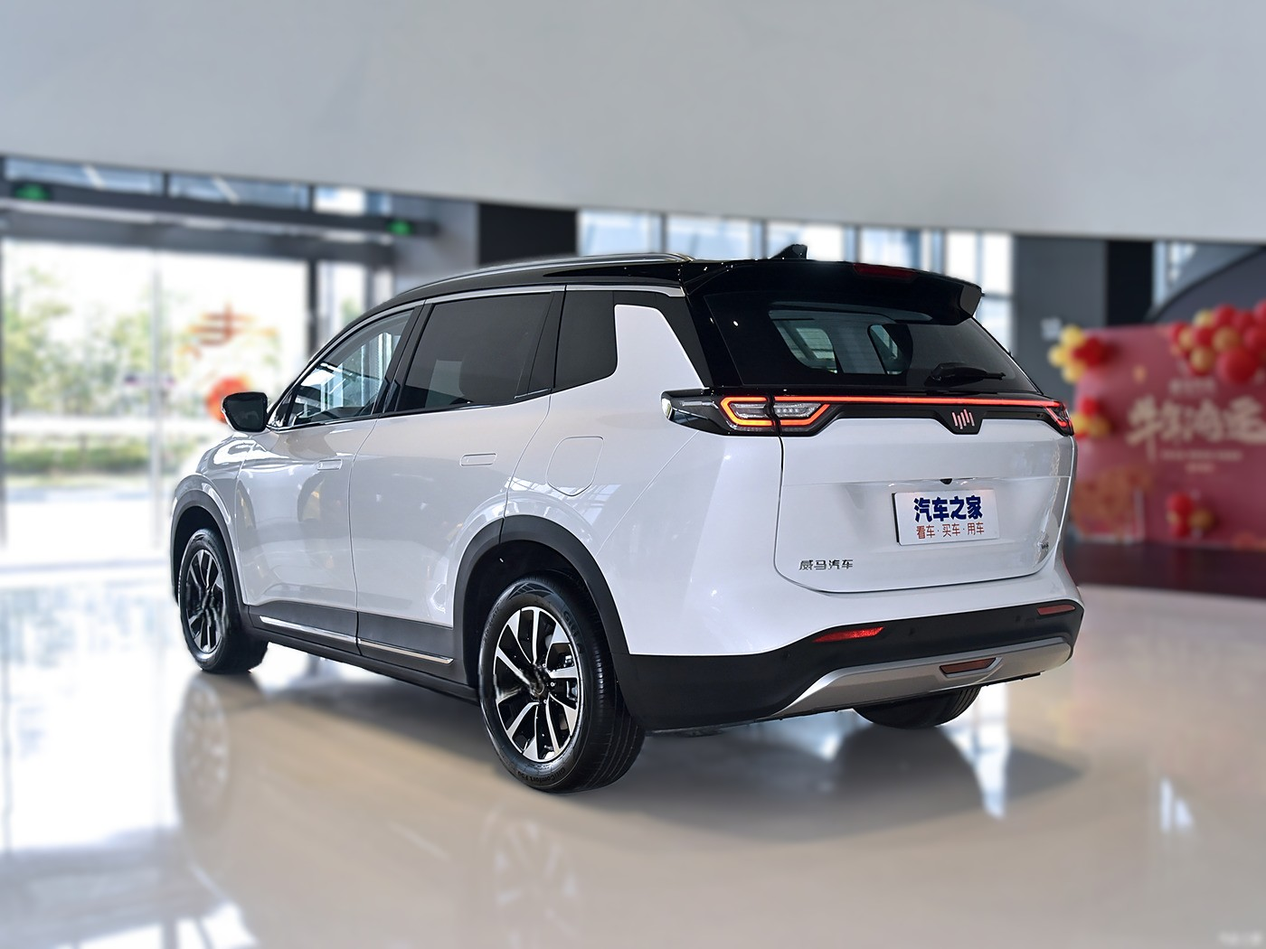WELTMEISTER: (952, 409, 975, 429)
